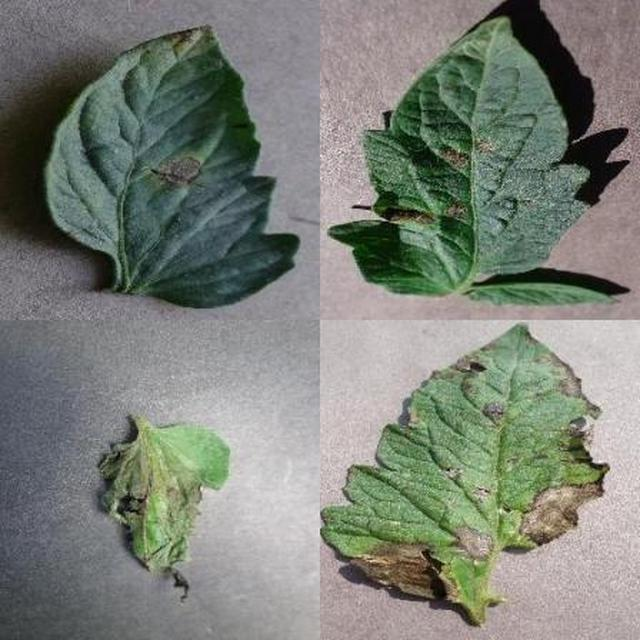Early Blight Leaf: (204, 224, 640, 640)
